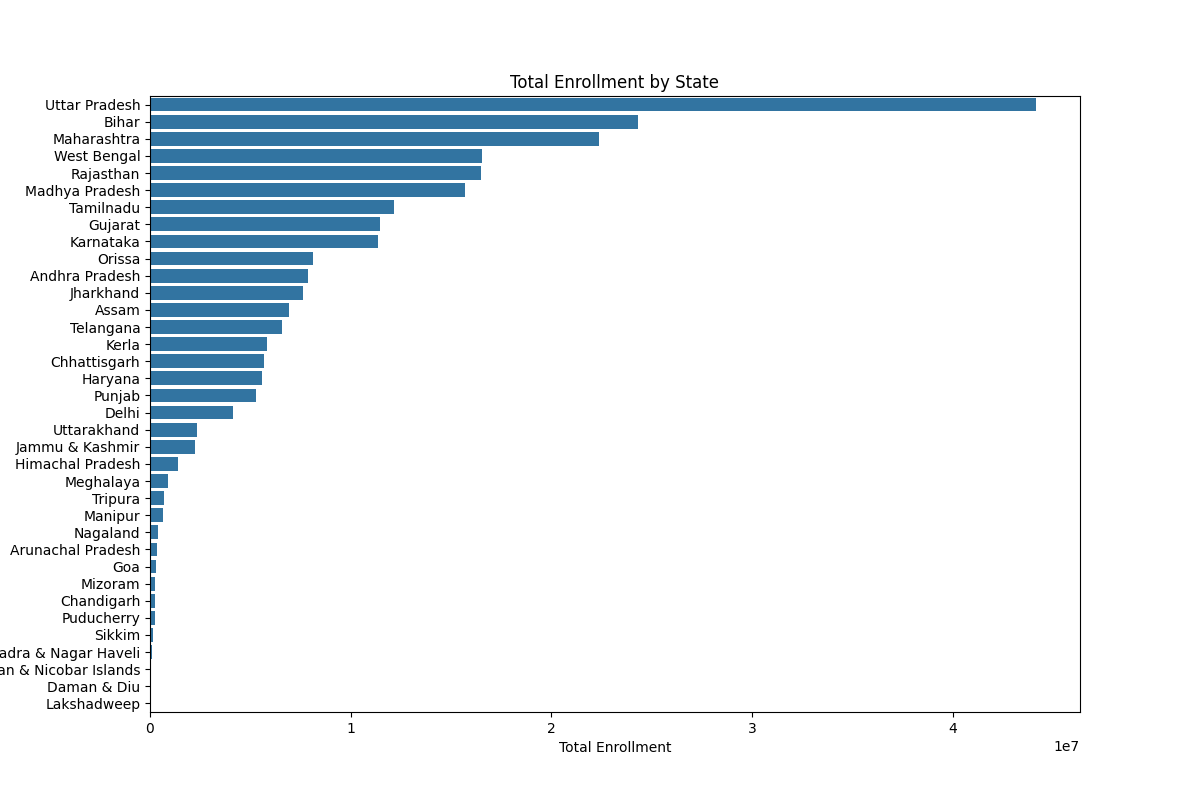

What the dashboard file says about the page in this screenshot:
{"tool":"tableau","page":{"name":"Dashboard 1","canvas":[1000,1000],"units":"permille","ordinal":0},"visuals":[{"type":"worksheet","title":"Sheet 2","mark":"Bar","rows":["count"],"cols":["date","date"],"box":[1.8,480.7,991,499.4]}]}

Visuals, with their boxes on the dashboard's canvas, which has no fixed pixel size, in thousandths of its width and height (x1, y1, x2, y2). These are canvas units, not pixel positions in the 1200x800 screenshot, which may show the page scaled, cropped or inside an application window:
"Sheet 2" worksheet (Bar marks): bbox=(2, 481, 993, 980)
